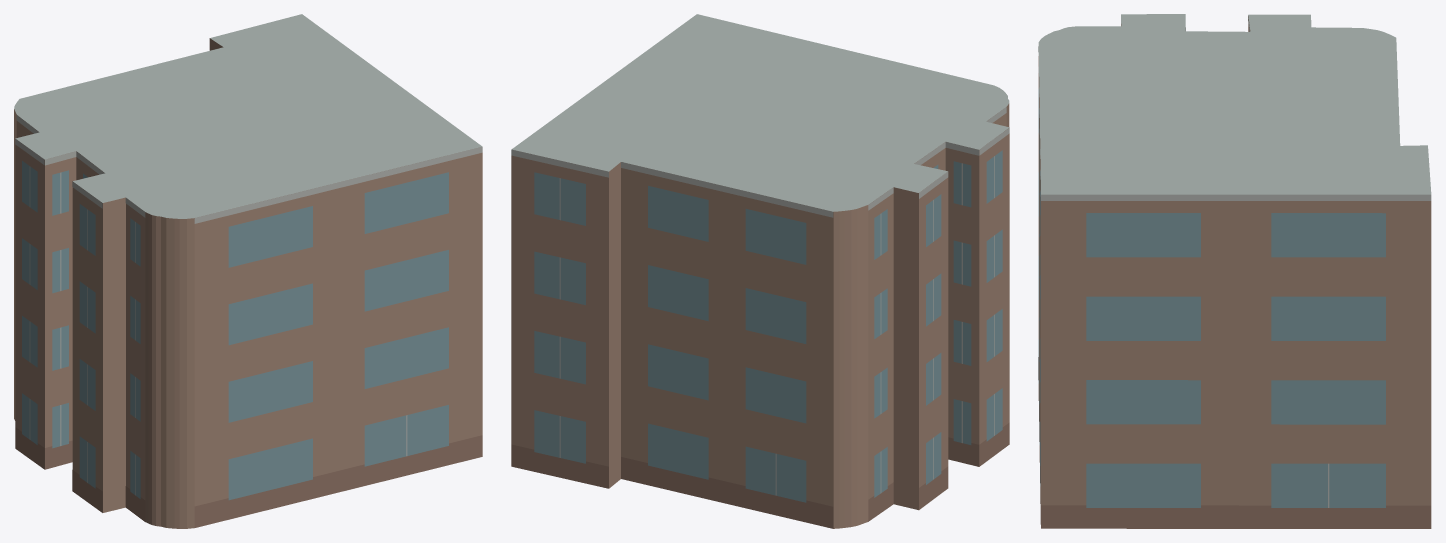
Rendered from survey-upis-32895581.glb.
3 views of the same model, side by side, from view 1: azimuth 30°, elevation 25°; view 2: azimuth 150°, elevation 25°; view 3: azimuth 270°, elevation 25° (orthographic). The views are drawn at different scales.
Parts seen in each view (by area): view 1: survey-upis-32895581.tmp; view 2: survey-upis-32895581.tmp; view 3: survey-upis-32895581.tmp.
Boxes of the visible parts, x1=… form: survey-upis-32895581.tmp: x1=14, y1=14, x2=482, y2=528; survey-upis-32895581.tmp: x1=511, y1=14, x2=1009, y2=528; survey-upis-32895581.tmp: x1=1038, y1=14, x2=1431, y2=528.
Bounding box in the file's own units: 14.85 × 12.8 × 13.65.
